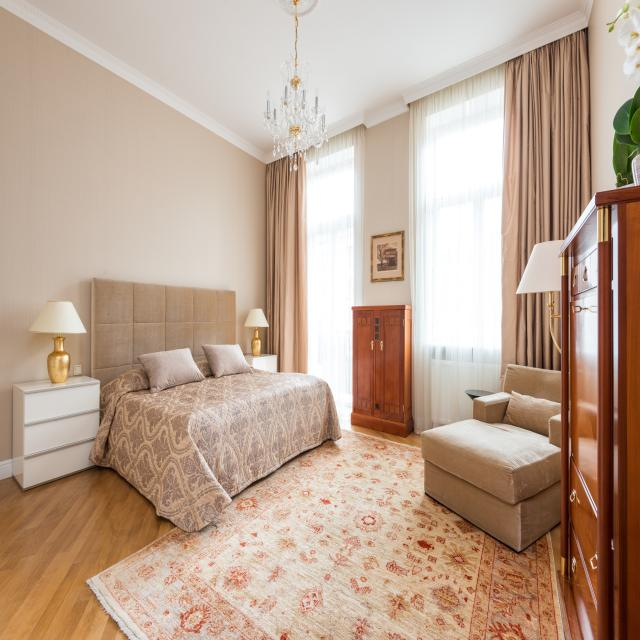floor: (0, 465, 178, 640), (338, 415, 421, 450), (550, 521, 570, 640)
wall: (0, 6, 268, 480), (588, 0, 640, 200), (361, 103, 412, 306)
